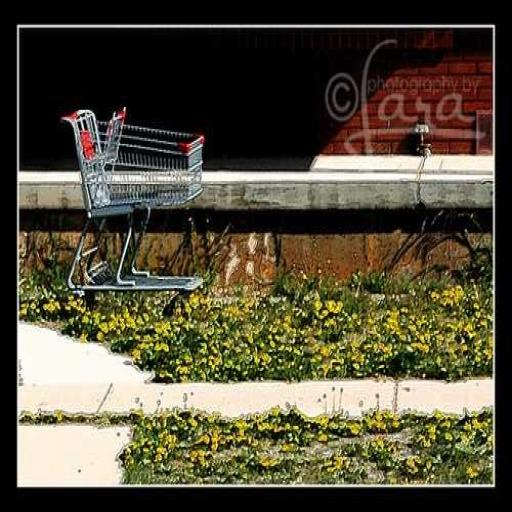shopping_cart: (62, 107, 206, 315)
